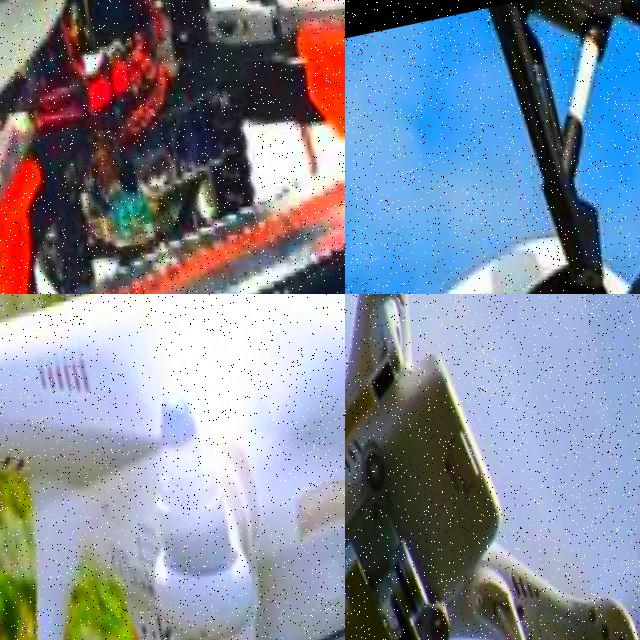drone: (0, 294, 345, 640), (345, 294, 640, 640), (0, 0, 345, 294), (345, 0, 640, 294)
